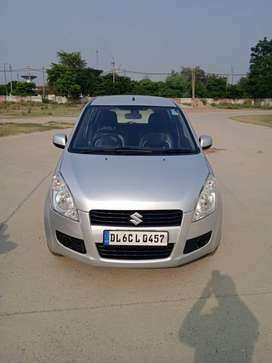DL6CL0457: (104, 230, 168, 245)
